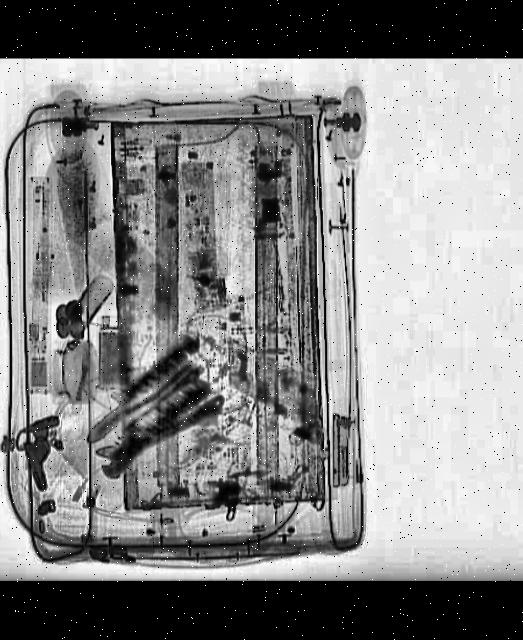Pliers: (74, 350, 194, 452)
Wrench: (88, 390, 233, 485)
